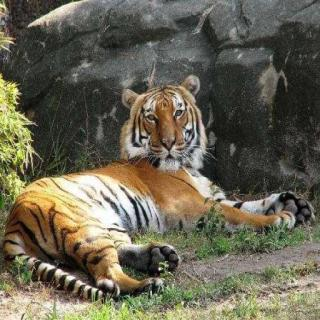Tiger: (0, 76, 320, 305)
